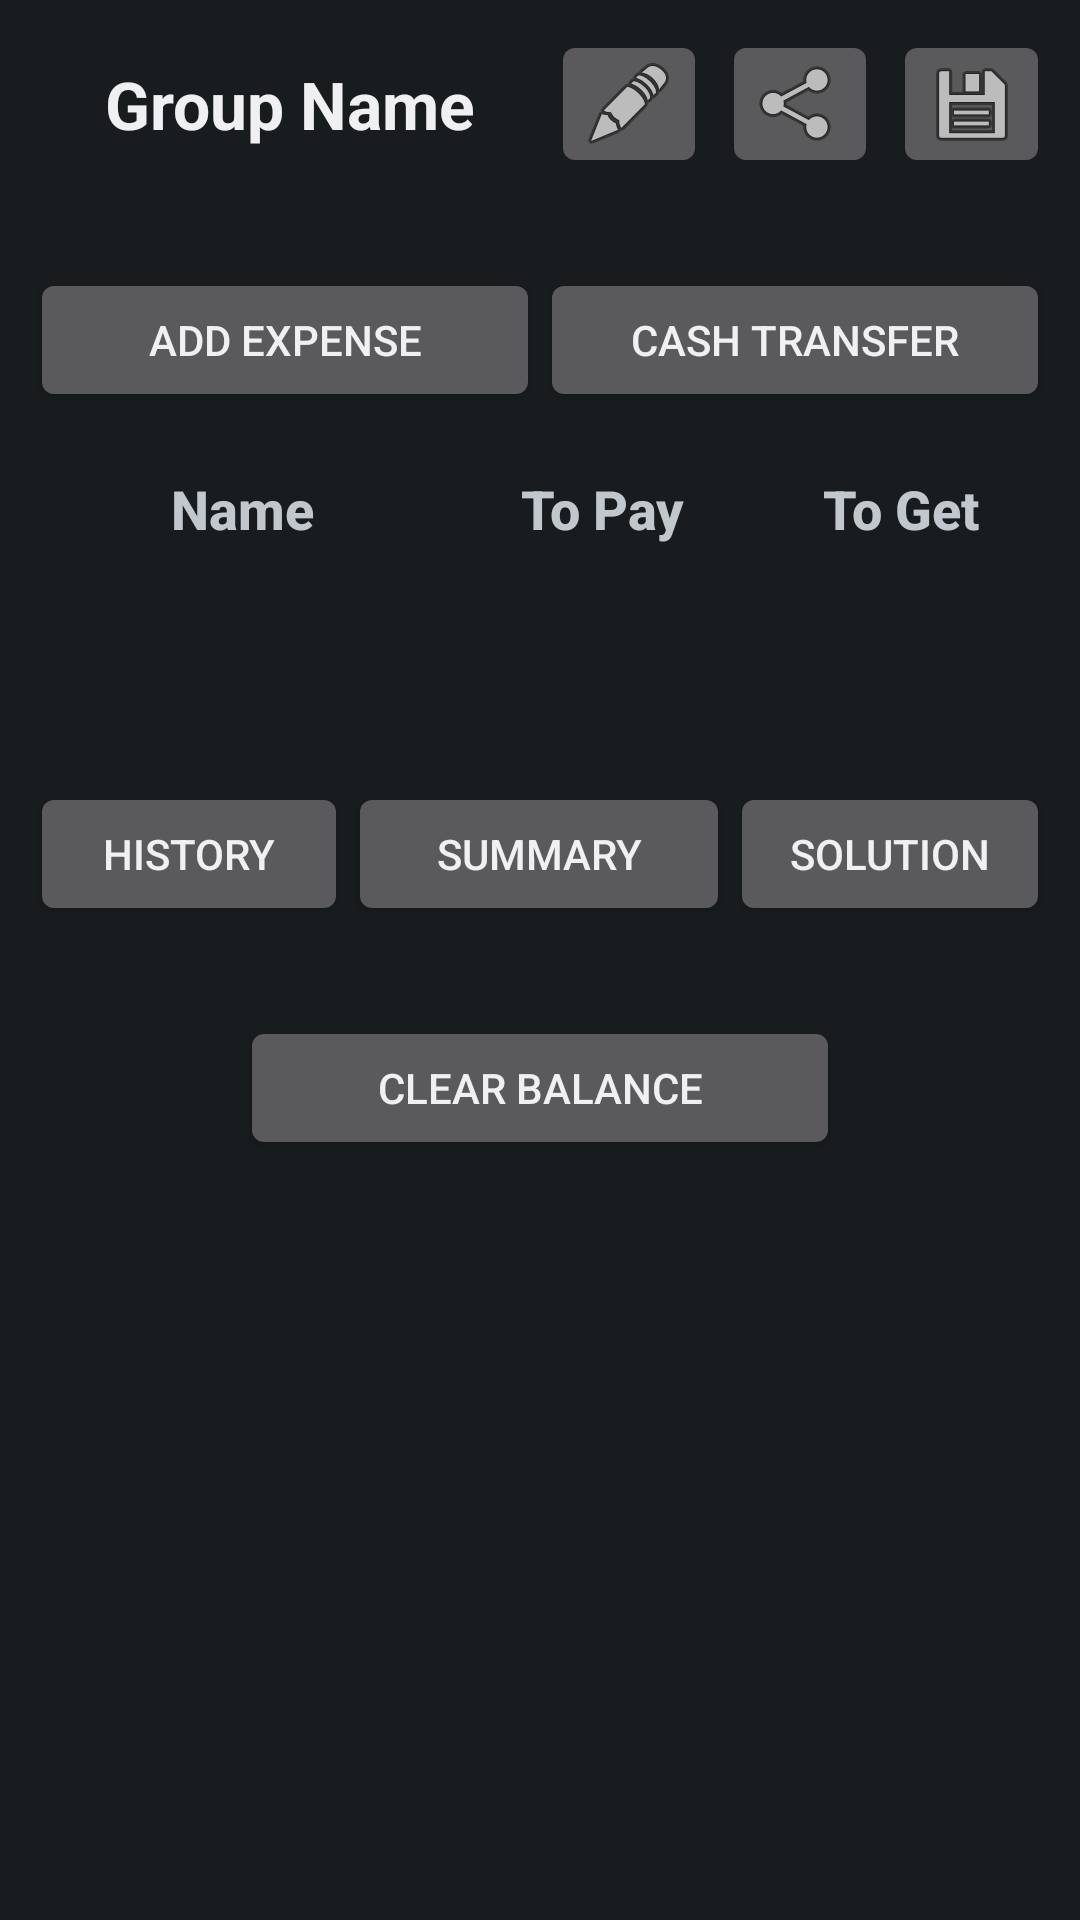

Screen size 1080*1920. Icon name, then its box in pixels as bbox(x1, y1, x2, y2):
Edit name of the group: bbox(563, 48, 695, 160)
Export Group Database: bbox(905, 48, 1038, 160)
Share Among: bbox(734, 48, 866, 160)
